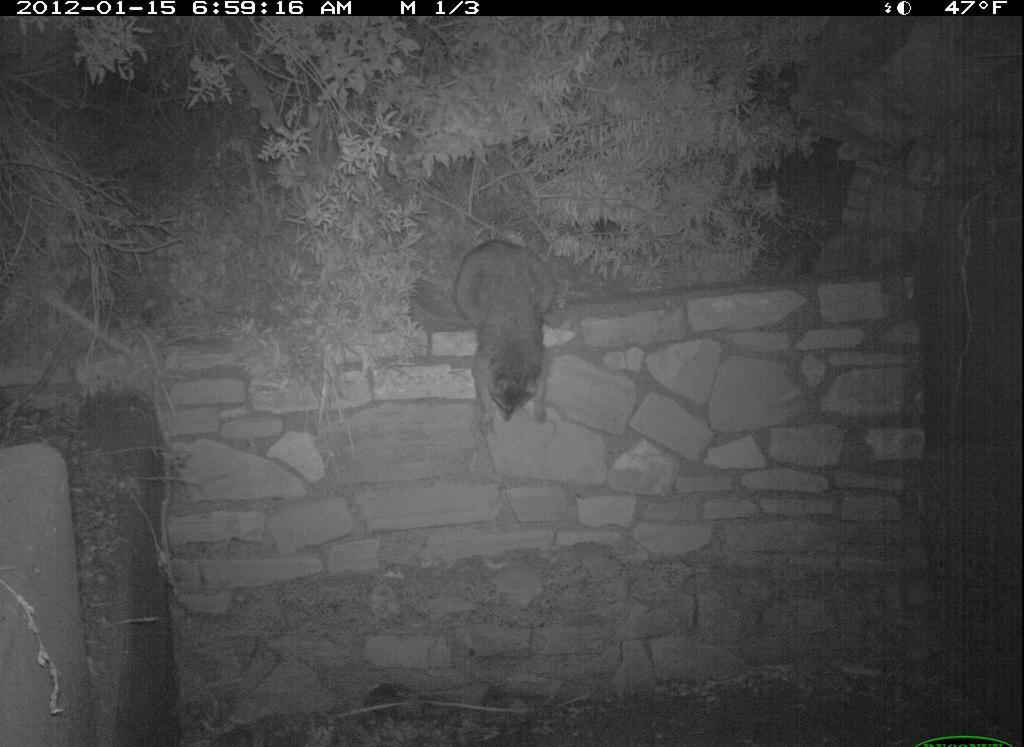raccoon: (443, 223, 573, 422)
